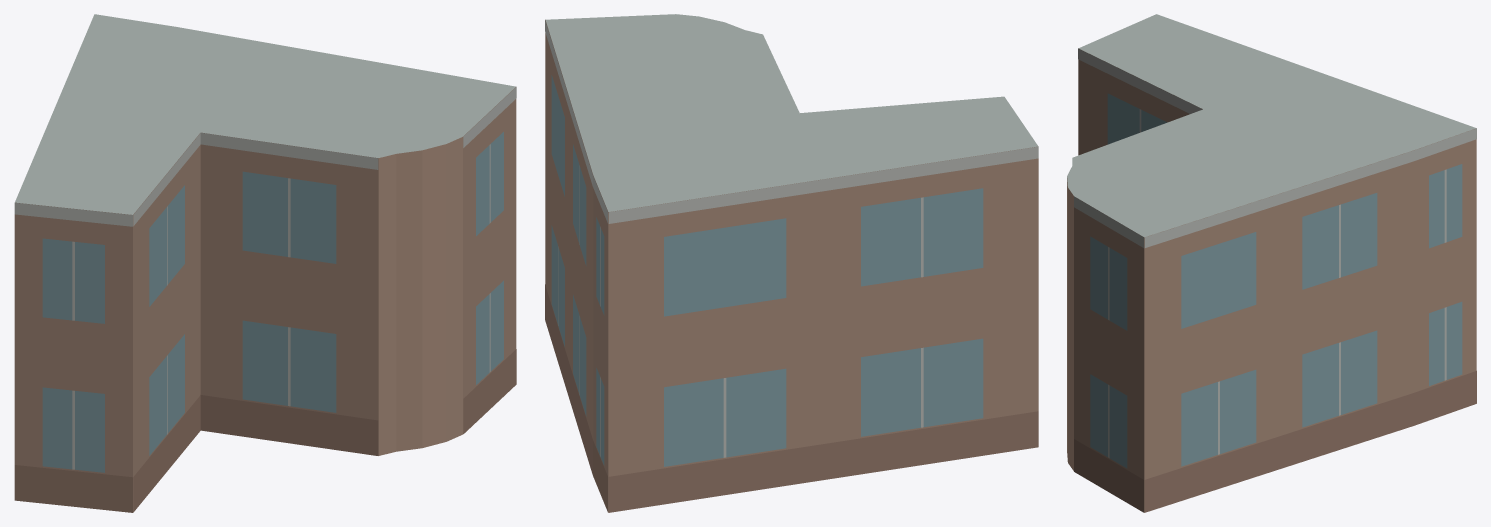
The model's file is survey-upis-32461252.glb.
3 views of the same model, side by side, from view 1: azimuth 30°, elevation 25°; view 2: azimuth 150°, elevation 25°; view 3: azimuth 270°, elevation 25° (orthographic). The views are drawn at different scales.
Parts seen in each view (by area): view 1: survey-upis-32461252.tmp; view 2: survey-upis-32461252.tmp; view 3: survey-upis-32461252.tmp.
Boxes of the visible parts, x1,y1,x2,y2 form: survey-upis-32461252.tmp: (14,14,516,512); survey-upis-32461252.tmp: (545,14,1038,512); survey-upis-32461252.tmp: (1067,14,1476,512).
Size of the model in its own units: 10.62 by 6.1 by 8.23.
